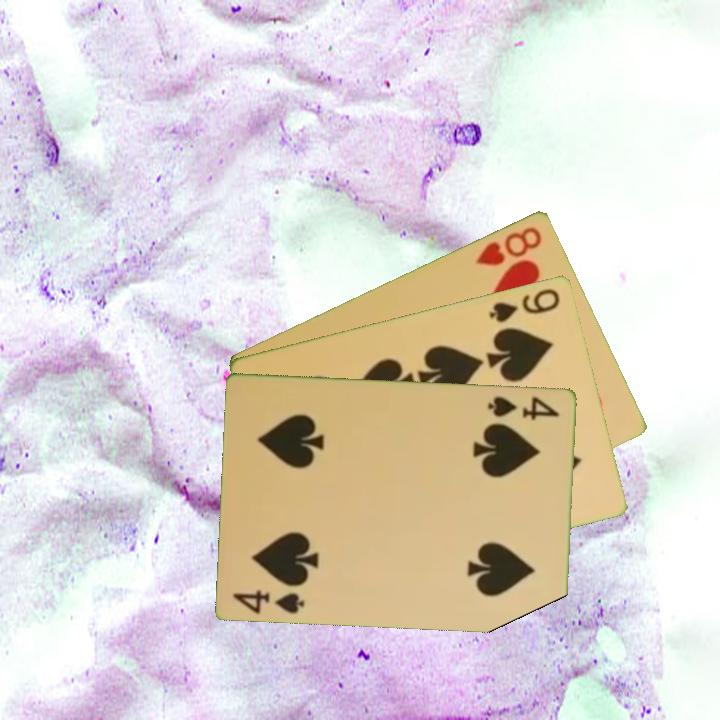4s: (229, 585, 308, 617), (484, 392, 562, 422)
8h: (472, 222, 545, 268)
9s: (485, 284, 563, 325)
